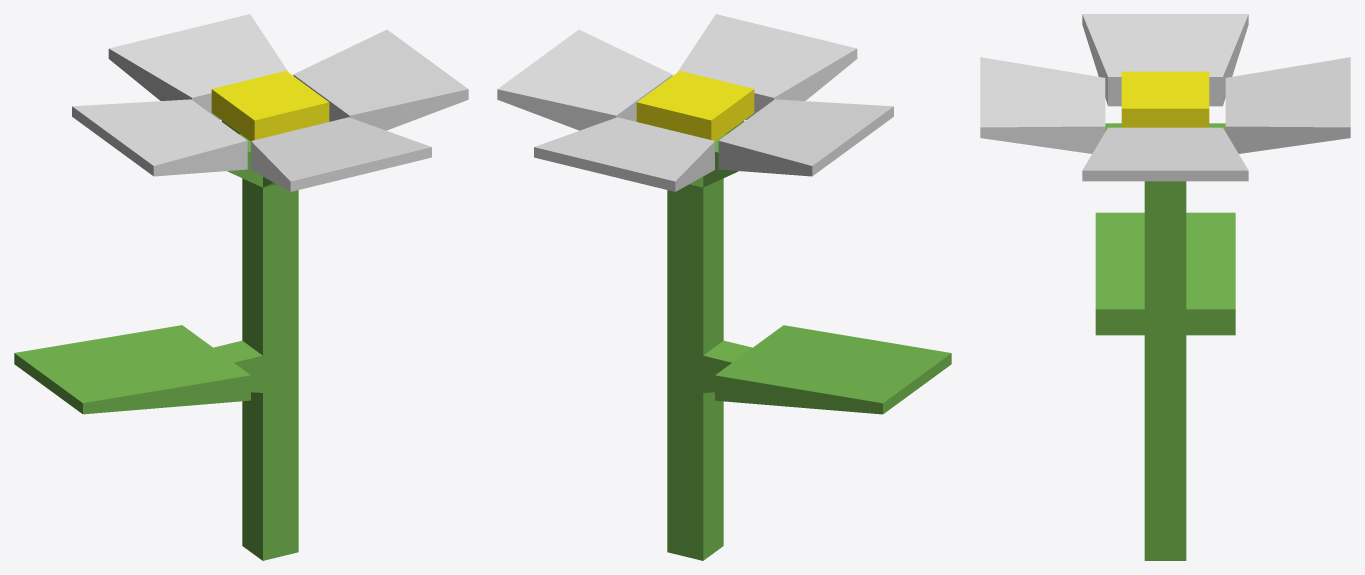
Rendered from item_flower.fbx.
3 views of the same model, side by side, from view 1: azimuth 30°, elevation 25°; view 2: azimuth 150°, elevation 25°; view 3: azimuth 270°, elevation 25° (orthographic).
Visible parts, largest first — view 1: Flower; view 2: Flower; view 3: Flower.
Boxes of the visible parts, x1,y1,x2,y2 form: Flower: (14, 14, 468, 560); Flower: (497, 14, 951, 560); Flower: (980, 14, 1350, 560).
Bounding box in the file's own units: 473 × 540 × 393.
